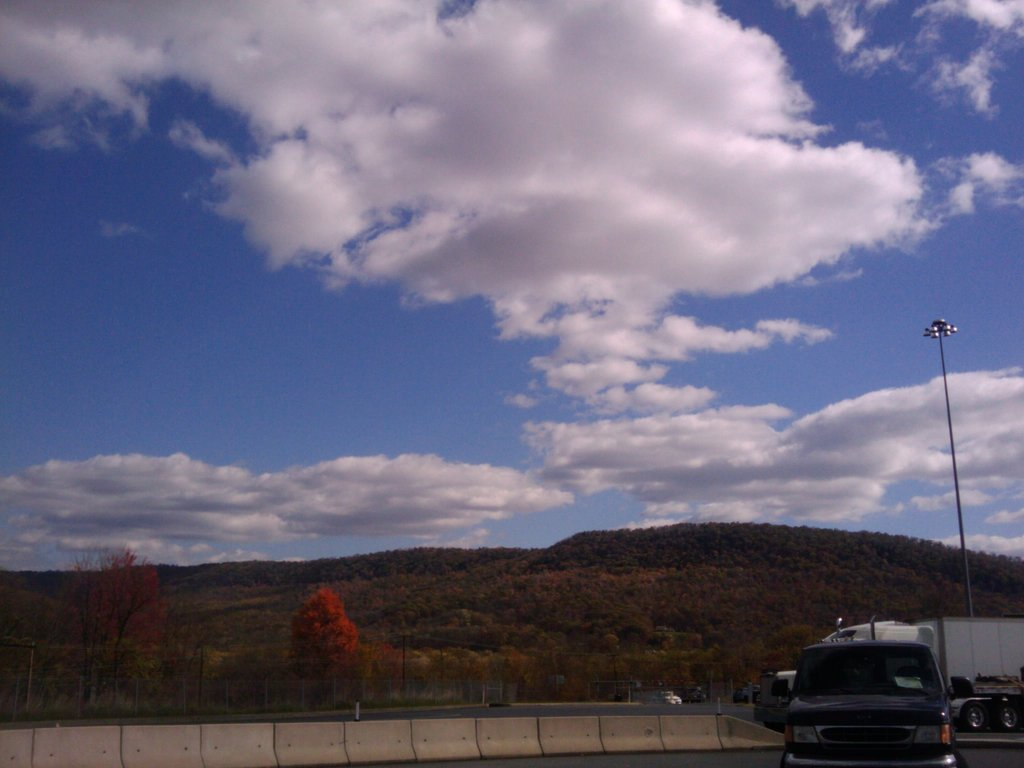Car: (767, 648, 979, 767)
